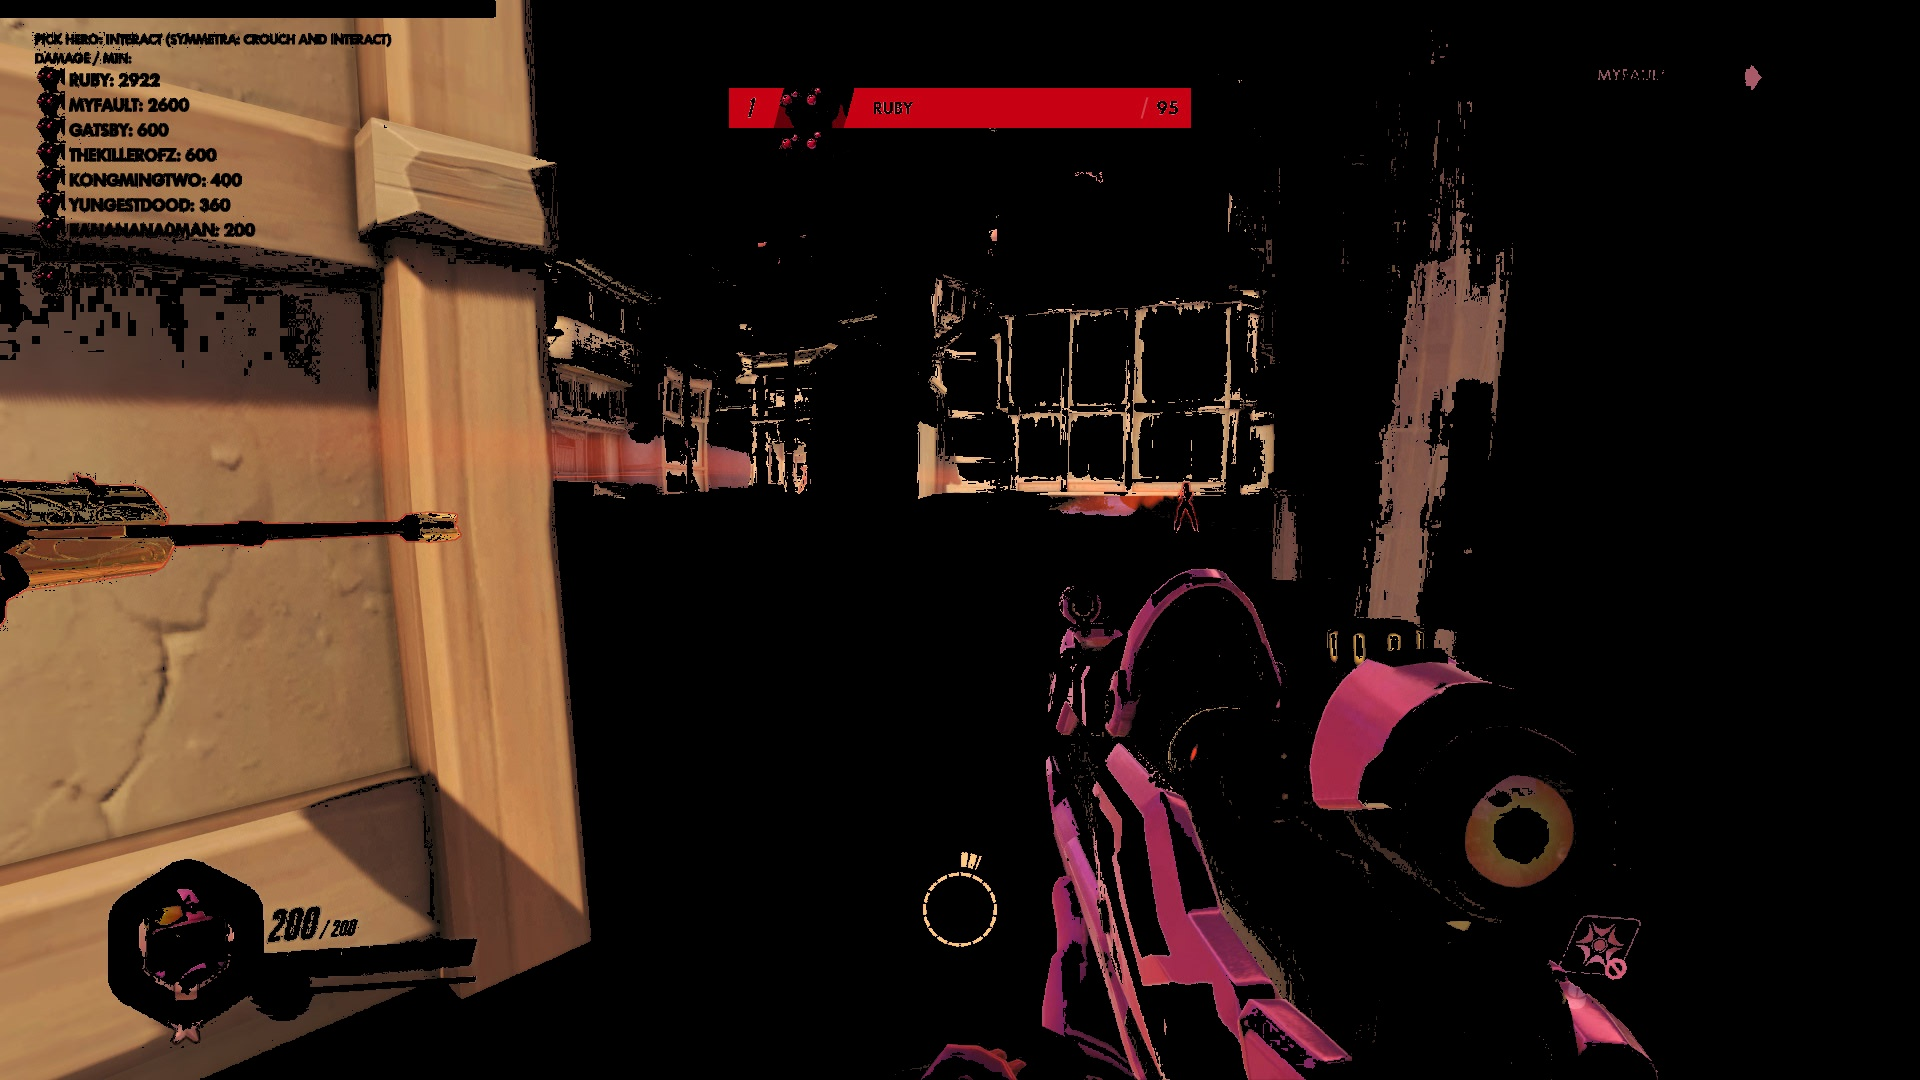widowmaker: (1164, 477, 1207, 542)
